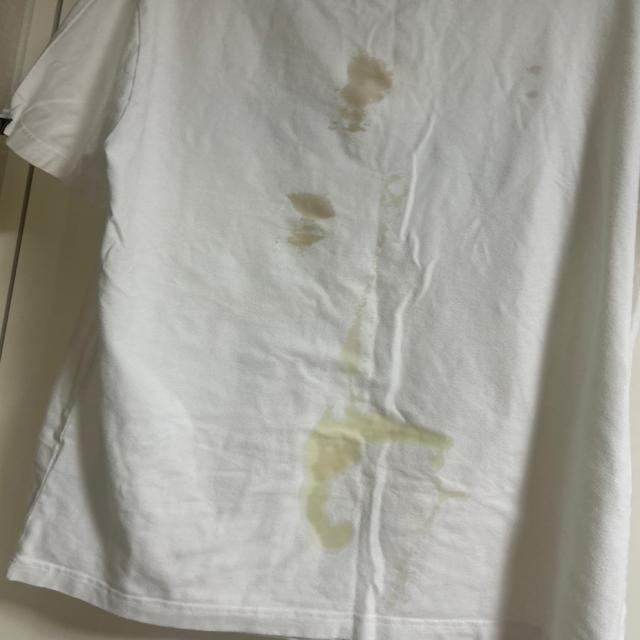stain: (304, 402, 467, 546), (328, 50, 398, 132), (279, 181, 330, 254), (341, 288, 374, 374), (374, 175, 413, 208), (524, 60, 556, 88), (373, 224, 401, 254), (506, 85, 542, 99)
